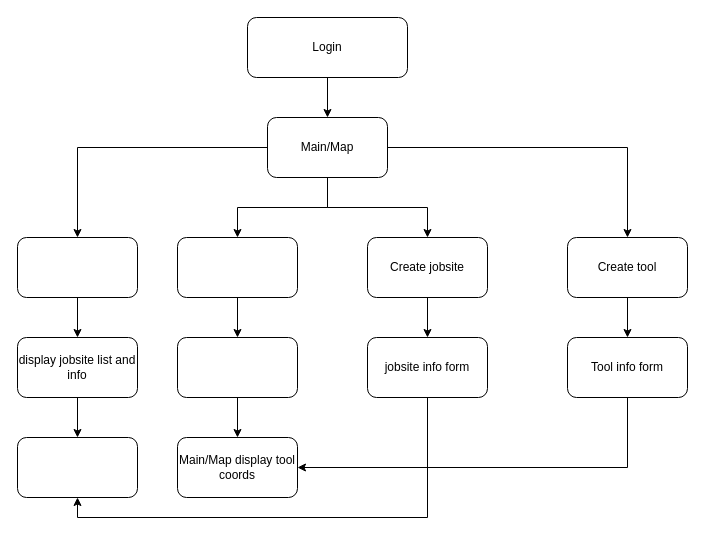
Some shapes in this 705 by 543 pixel diagram are drawn without their labels. Here are the shapes that lost their labels. From the top down, the box of each, then its label:
(16, 236, 138, 298): My jobsites
(176, 236, 298, 298): My Tools
(176, 336, 298, 398): display tool list & info
(16, 436, 138, 498): Main/Map display jobsite coords
